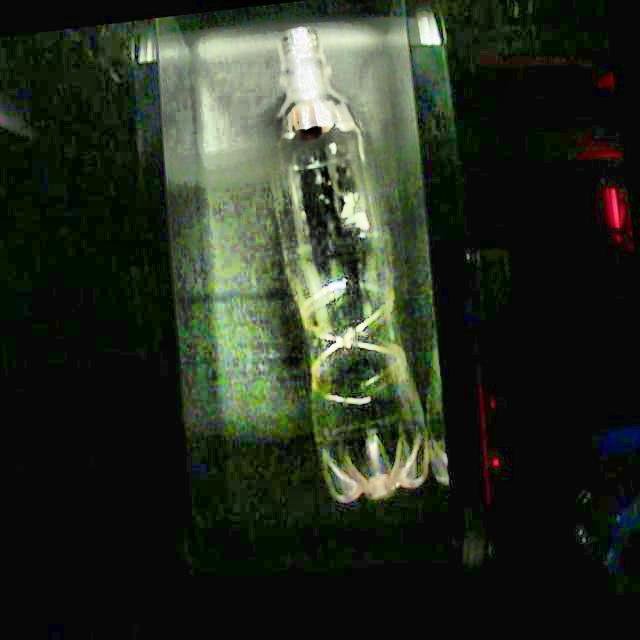plastic bottle: (274, 26, 448, 504)
